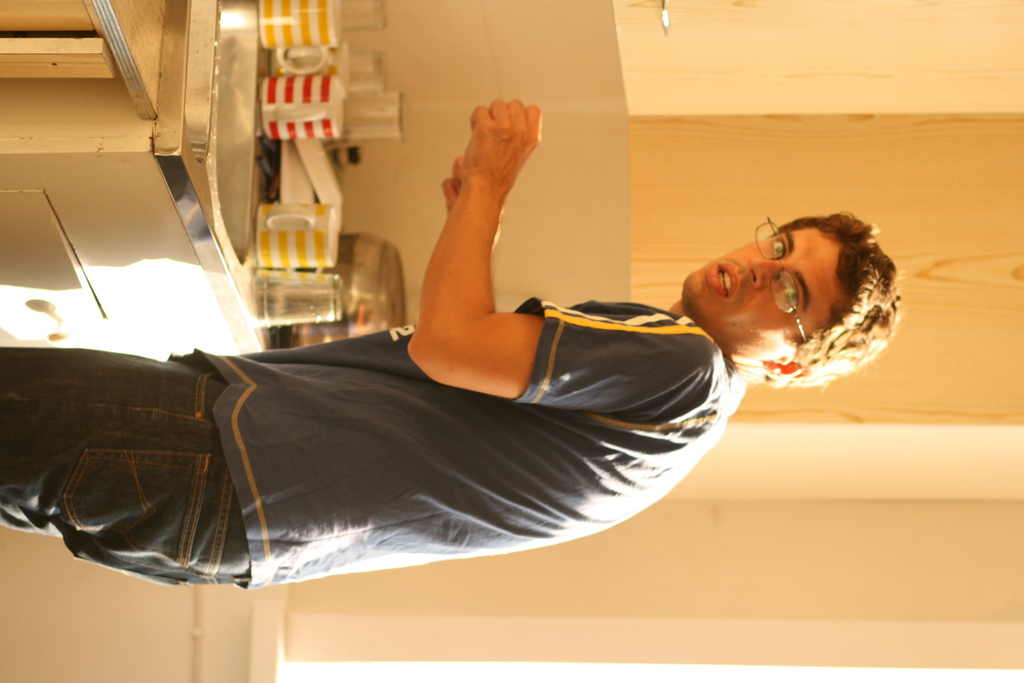face: (688, 220, 849, 334)
